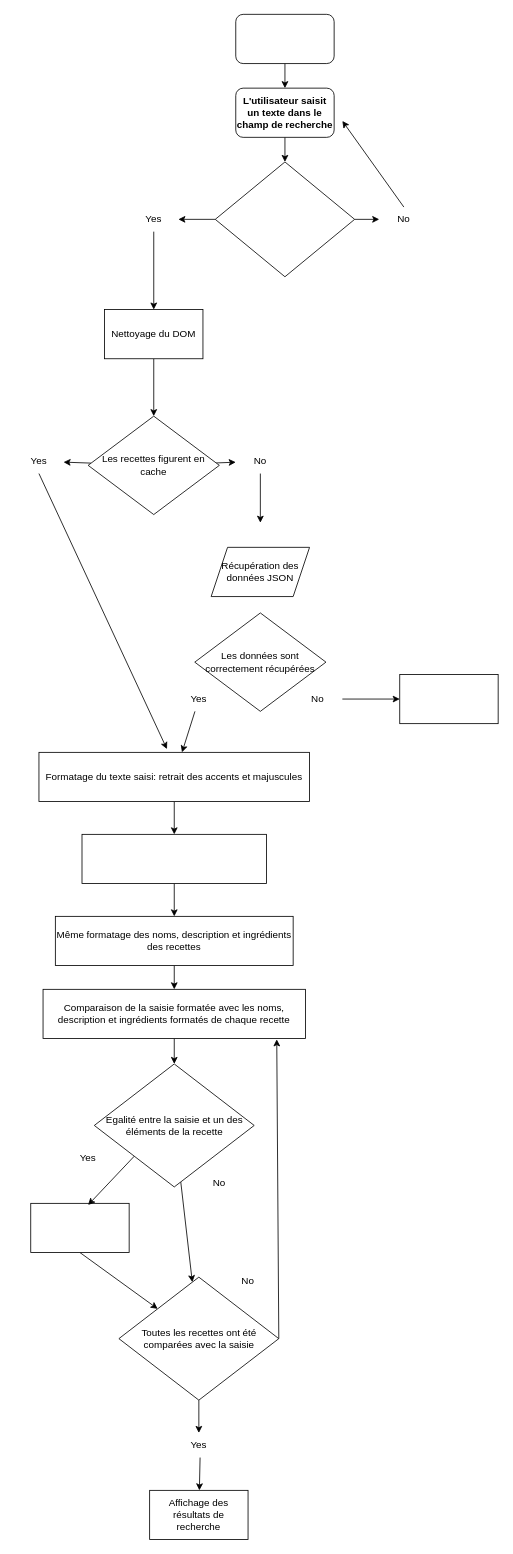
This 513x1554 diagram has some shape labels left out. Each missing label, with the centre of its shape:
Affichage d'un message d'erreur: point (448, 699)
Ajout de la recette dans le template HTML: point (79, 1228)
DEBUT: point (284, 39)
Le texte comporte trois caractères ou plus: point (284, 219)
Récupération des recettes dans le JSON: point (173, 859)
